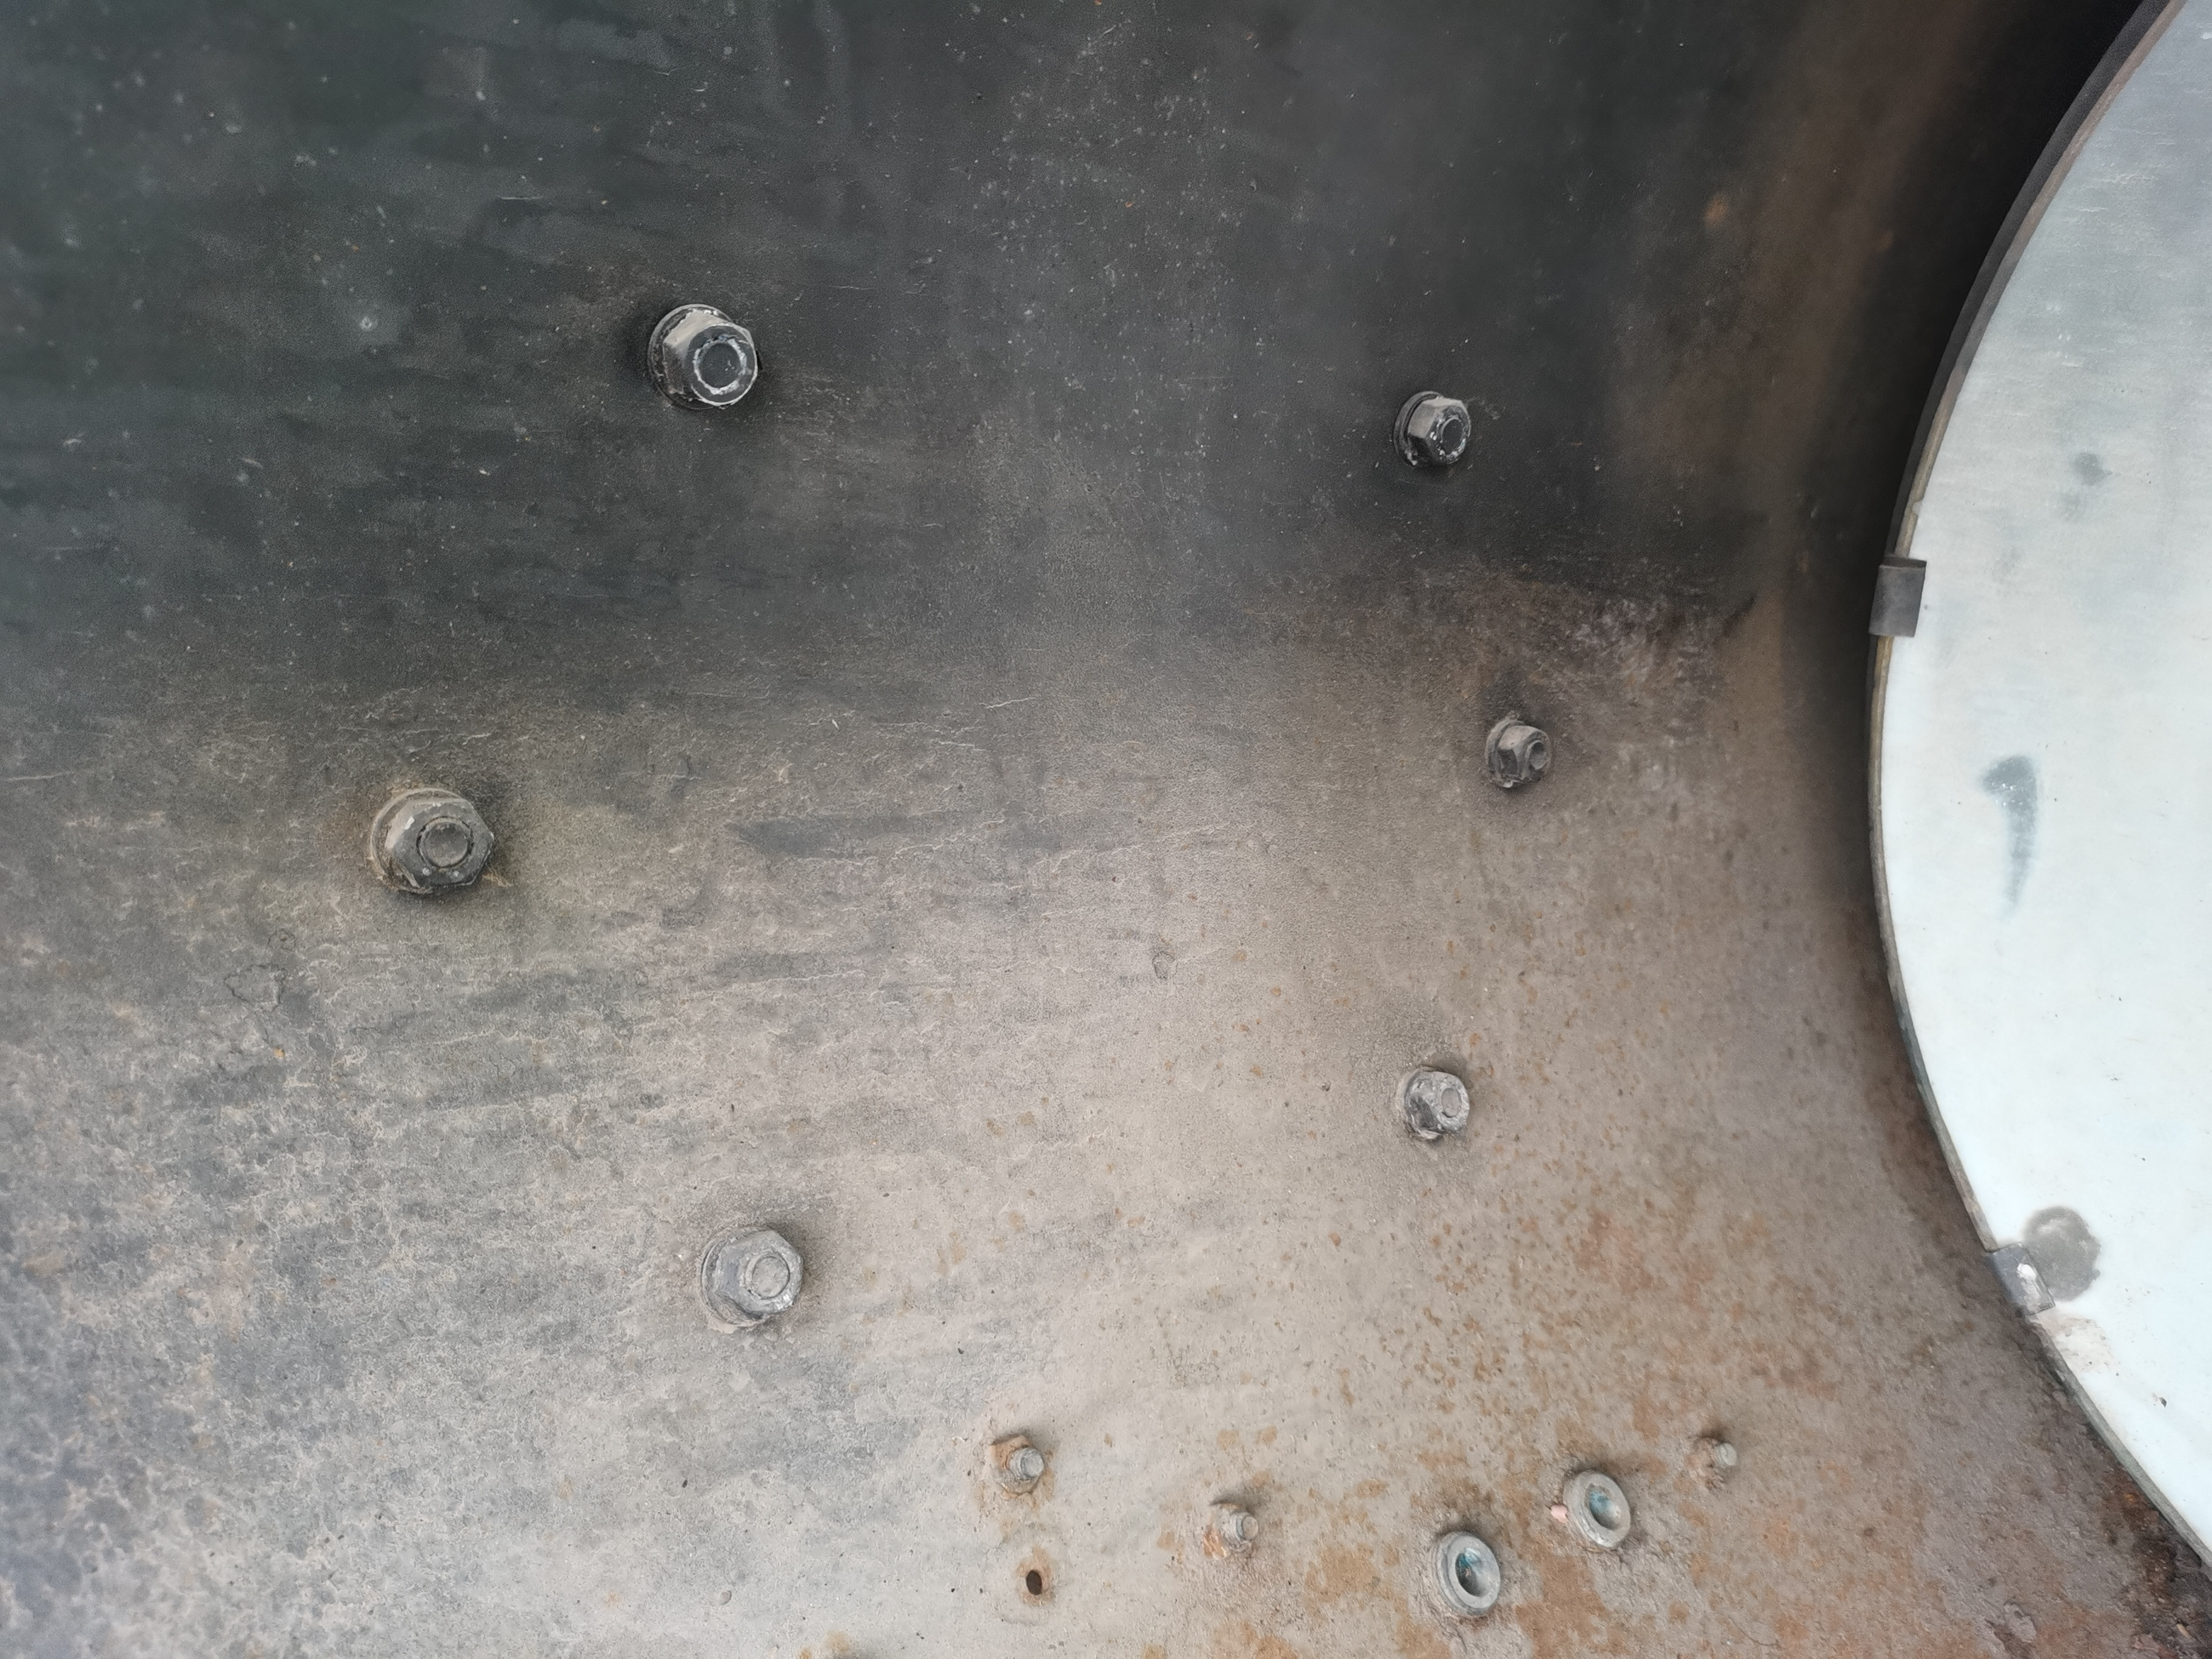bolt_b: (653, 301, 765, 416), (376, 793, 498, 896), (711, 1222, 808, 1326), (1399, 1060, 1474, 1143), (1402, 389, 1475, 472), (975, 1431, 1047, 1502), (1487, 714, 1557, 788), (1193, 1495, 1261, 1565)
